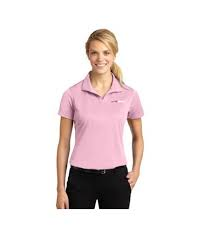C_polo shirt: (56, 71, 144, 167)
